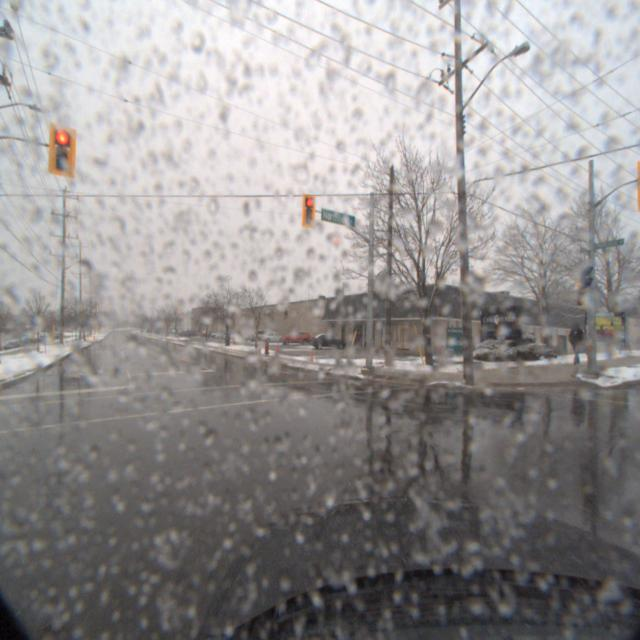Car: (310, 332, 350, 350), (280, 330, 314, 346)
Pedestrian: (564, 317, 590, 363)
